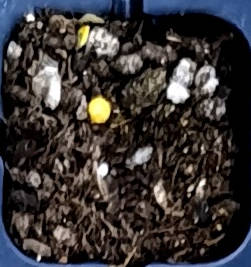pepper seed: (30, 32, 143, 158), (29, 0, 120, 49)
